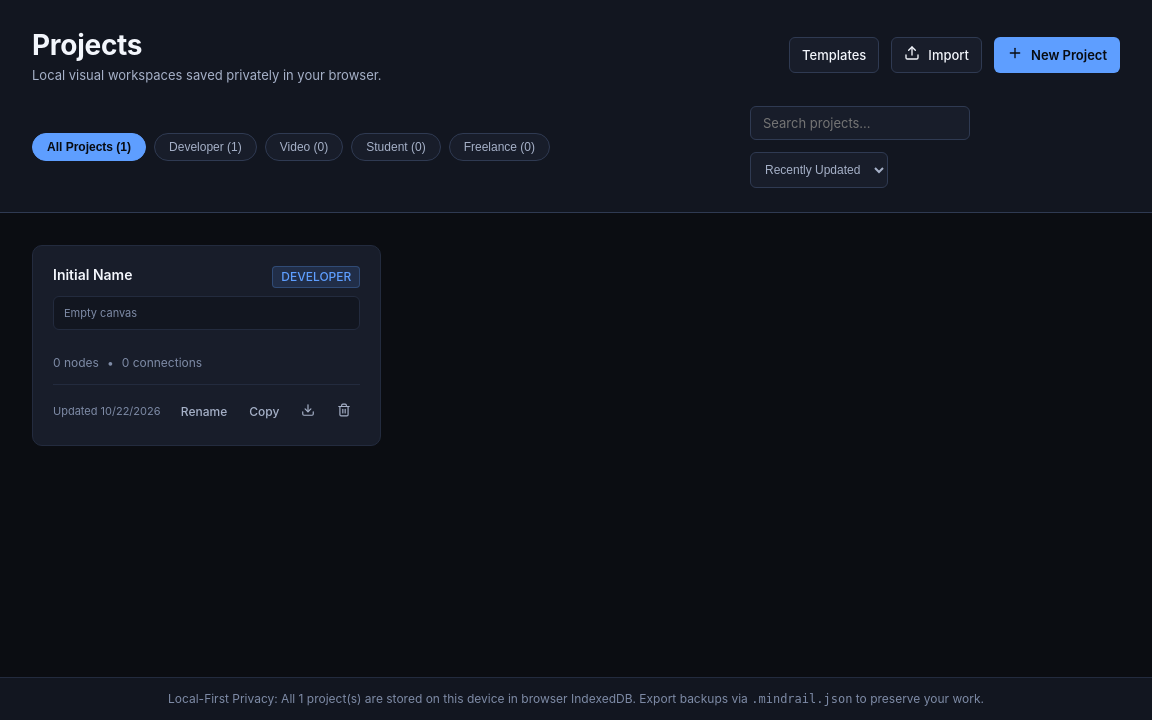
Test: Phase 3 Feature Suite › Project Library: Search, Filter, Sort, Rename & Duplicate Integrity › renames a project and persists changes to IndexedDB
Expected: the heading "Initial Name" is shown, 53,266 -> 132,284
Click rename button
Click the button with aria-label "Rename project" at {"x": 204, "y": 411}, box 172,397 -> 236,425
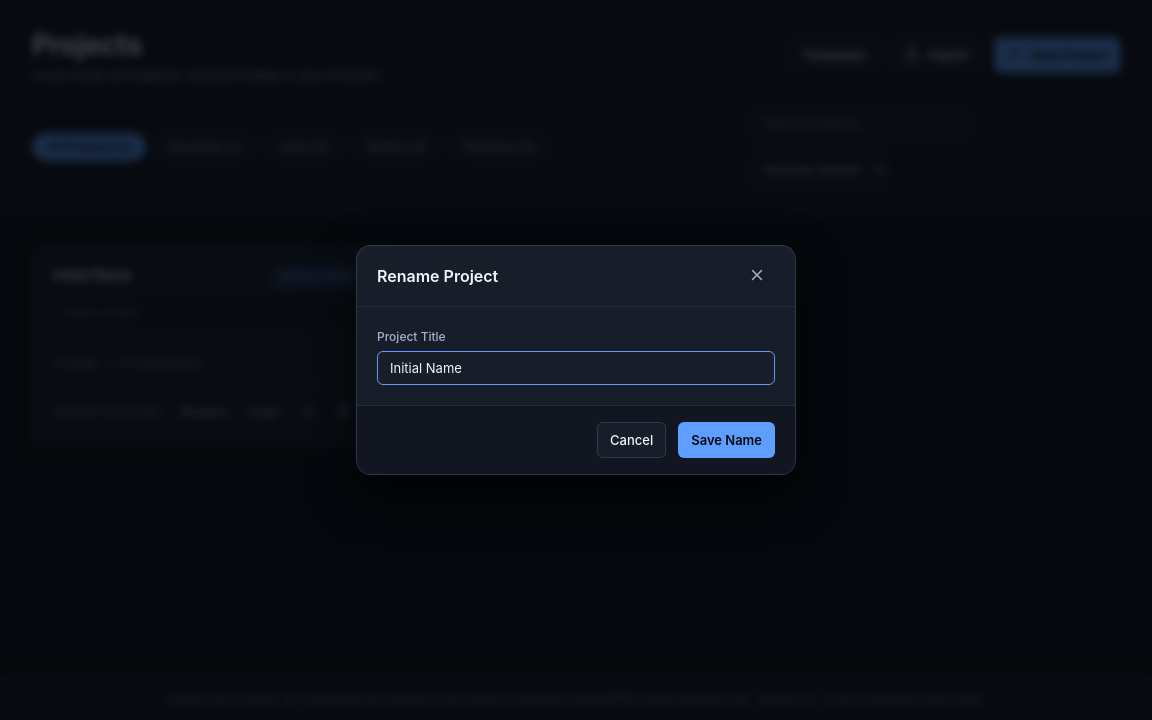
Expected: the heading "Rename Project" is shown, 377,264 -> 498,288
Replace the text in the field labelled "Project Title" with "Renamed High Scalability" at {"x": 576, "y": 368}, box 377,351 -> 775,385
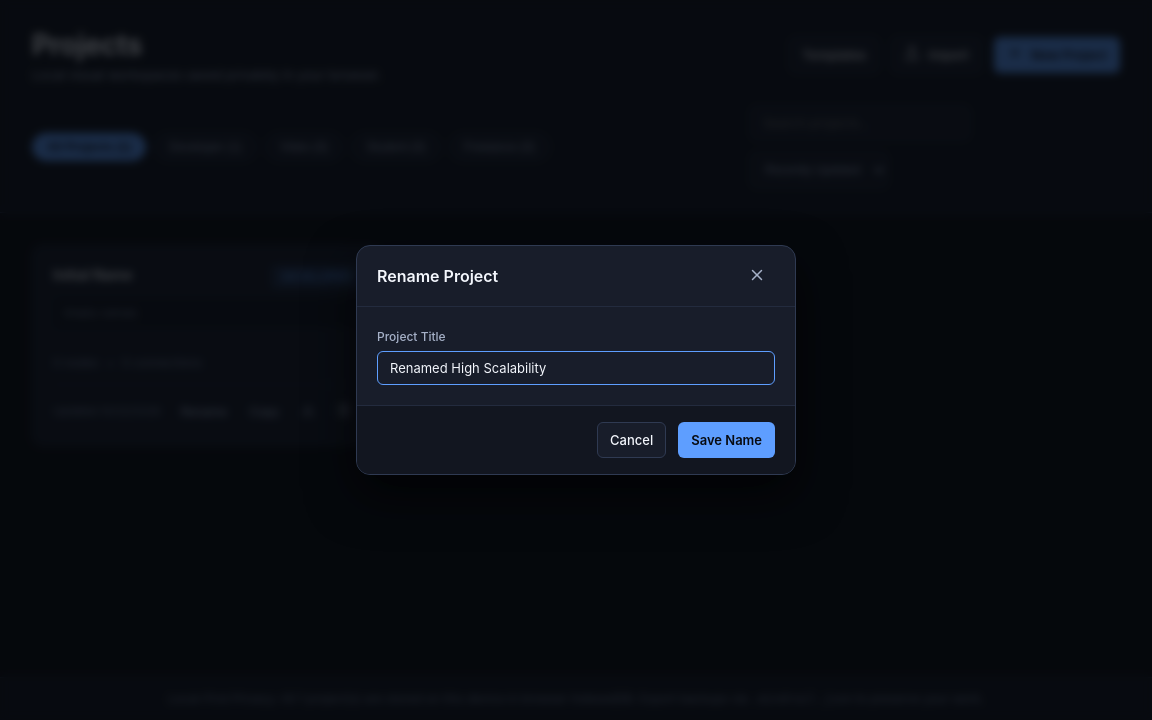
Click the button "Save Name" at {"x": 727, "y": 440}, box 678,422 -> 775,458
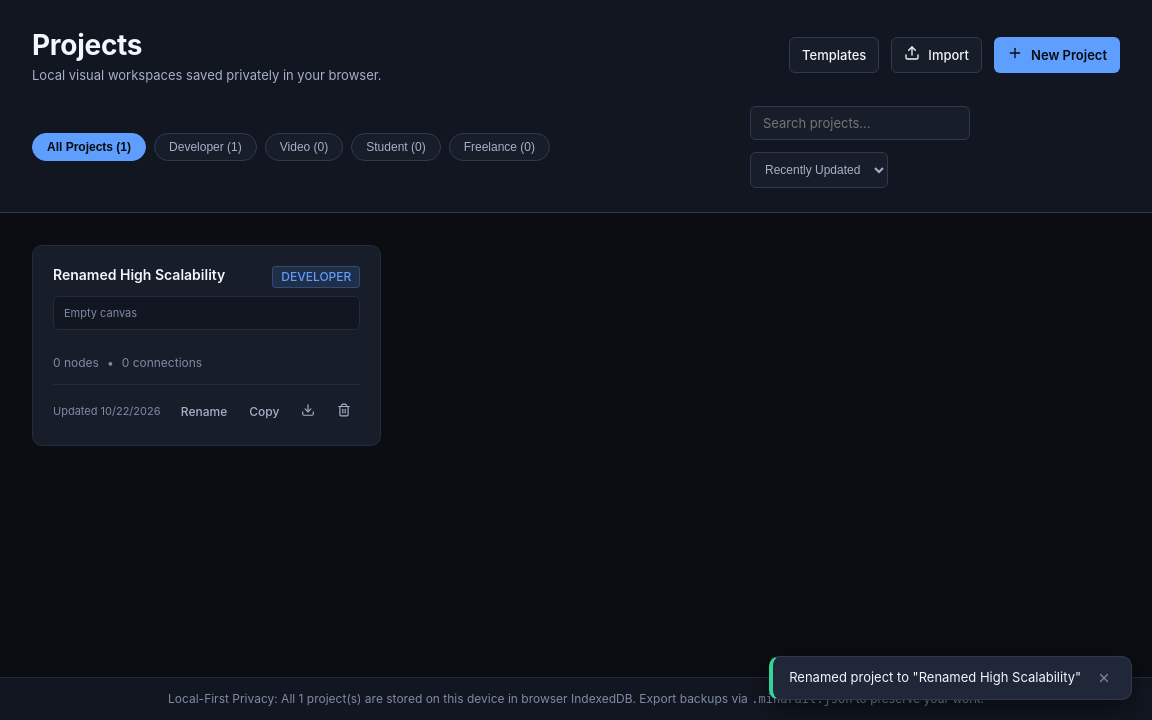
Expected: the heading "Renamed High Scalability" is shown, 53,266 -> 225,284
Expected: the heading "Renamed High Scalability" reads "Renamed High Scalability", 53,266 -> 225,282
